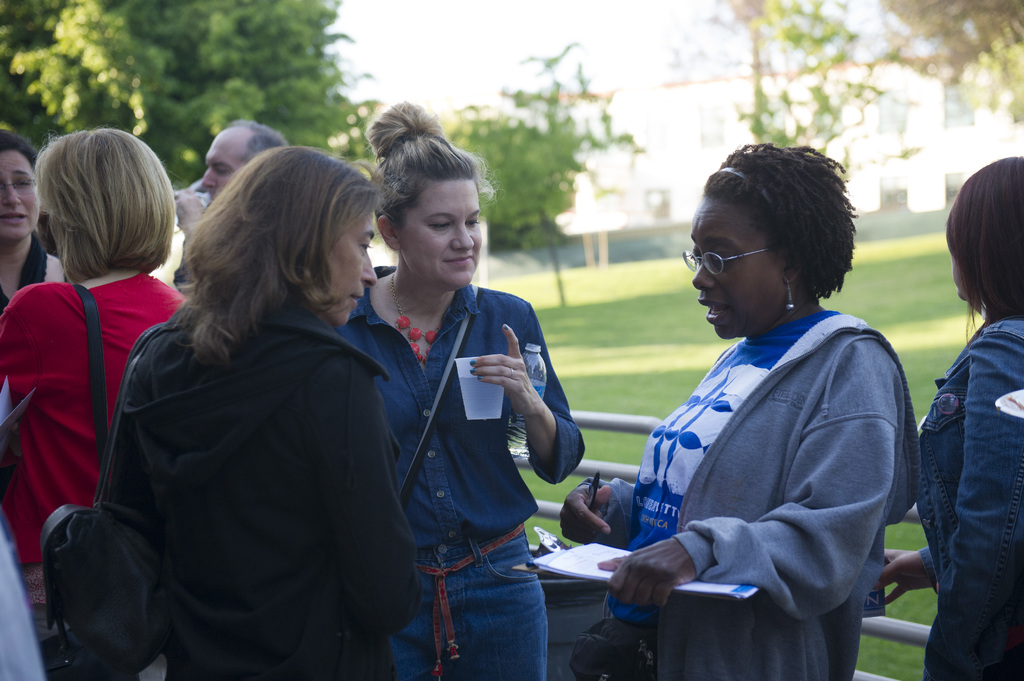Tree: (0, 0, 386, 165), (663, 0, 890, 237), (450, 35, 635, 302), (880, 0, 1023, 161)
